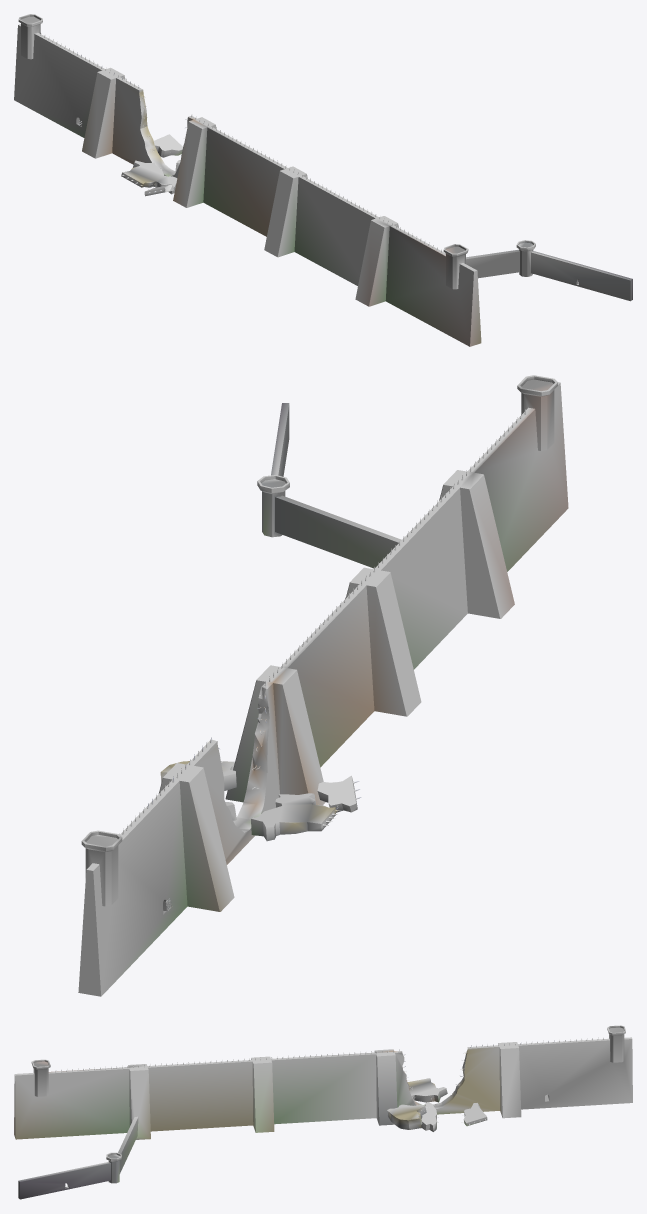
Rendered from CITY_WALL.glb.
The picture shows the model from 3 angles, top to bottom: view 1: azimuth 30°, elevation 25°; view 2: azimuth 150°, elevation 25°; view 3: azimuth 270°, elevation 25°; orthographic projection. The views are drawn at different scales.
Parts seen in each view (by area): view 1: 11-WALL; view 2: 11-WALL; view 3: 11-WALL.
Boxes of the visible parts, x1=… form: 11-WALL: x1=14, y1=14, x2=632, y2=346; 11-WALL: x1=78, y1=375, x2=568, y2=996; 11-WALL: x1=14, y1=1025, x2=632, y2=1199.
Bounding box in the file's own units: 141 × 42.51 × 332.
